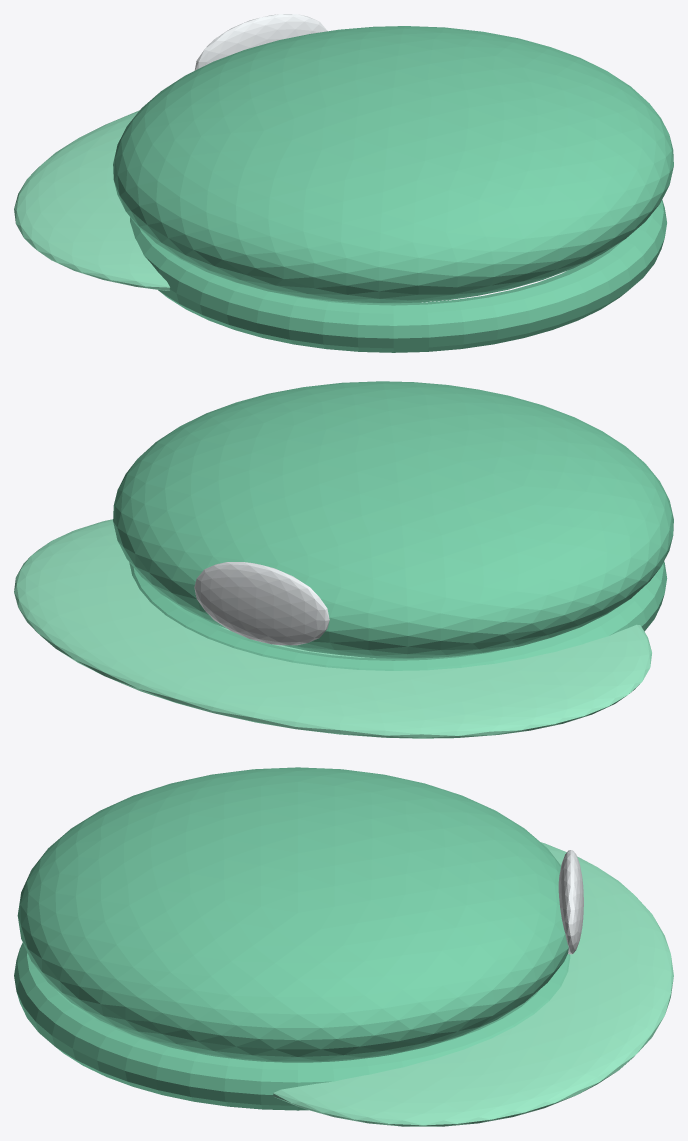
Rendered from green_visor.glb.
3 renders of one model, top to bottom at view 1: azimuth 30°, elevation 25°; view 2: azimuth 150°, elevation 25°; view 3: azimuth 270°, elevation 25°, orthographic. The views are drawn at different scales.
Parts seen in each view (by area): view 1: green_visor_0, green_visor_2, green_visor_1, green_visor_3; view 2: green_visor_0, green_visor_1, green_visor_2, green_visor_3; view 3: green_visor_0, green_visor_1, green_visor_2, green_visor_3.
Part boxes in pixels (x1,y1,x2,y2): green_visor_0: (113, 26, 673, 303); green_visor_2: (130, 200, 666, 352); green_visor_1: (14, 110, 169, 290); green_visor_3: (194, 14, 327, 70); green_visor_0: (113, 381, 673, 658); green_visor_1: (14, 519, 651, 738); green_visor_2: (129, 561, 667, 670); green_visor_3: (194, 562, 329, 645); green_visor_0: (17, 767, 568, 1062); green_visor_1: (273, 842, 673, 1126); green_visor_2: (14, 943, 570, 1110); green_visor_3: (558, 850, 583, 954).
Bounding box in the file's own units: 0.96 × 0.245 × 0.895.
